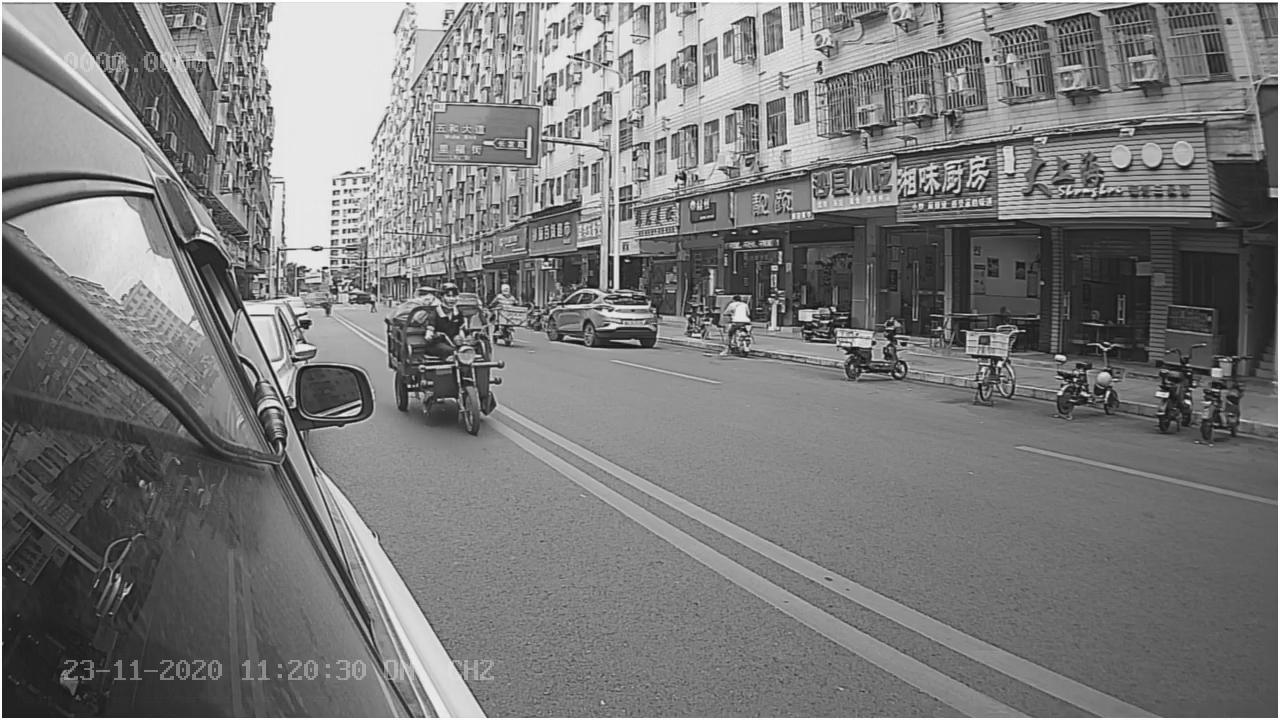person: (421, 283, 468, 334)
